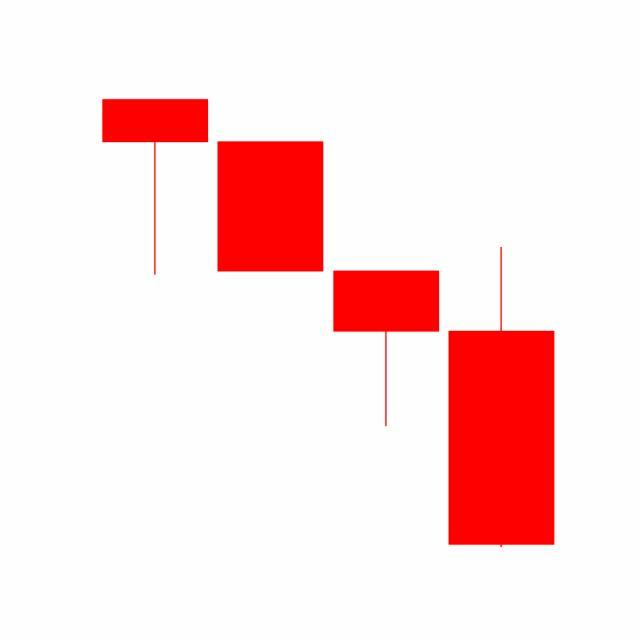Hammer: (329, 269, 445, 429)
